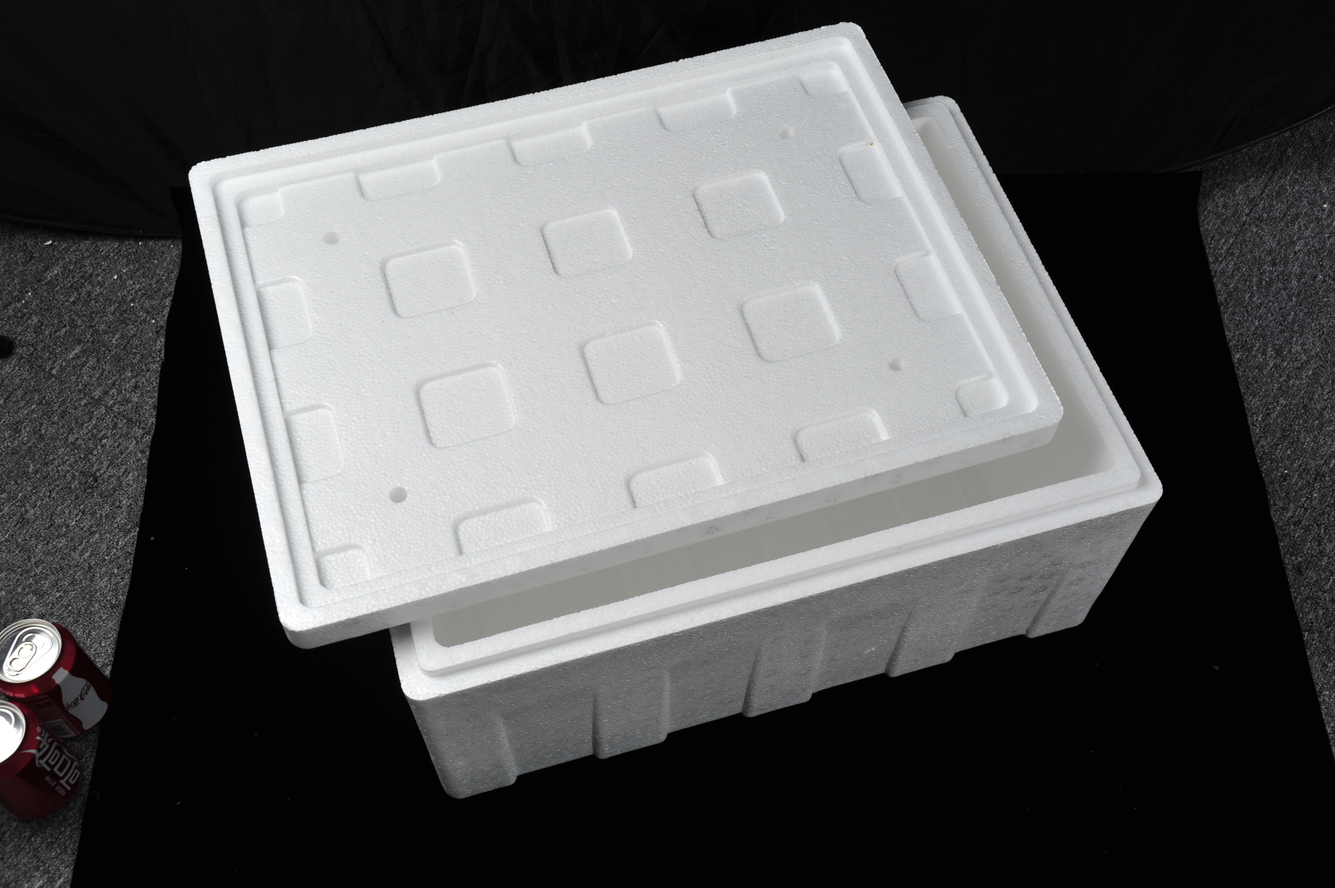泡沫箱: (192, 25, 1159, 796)
